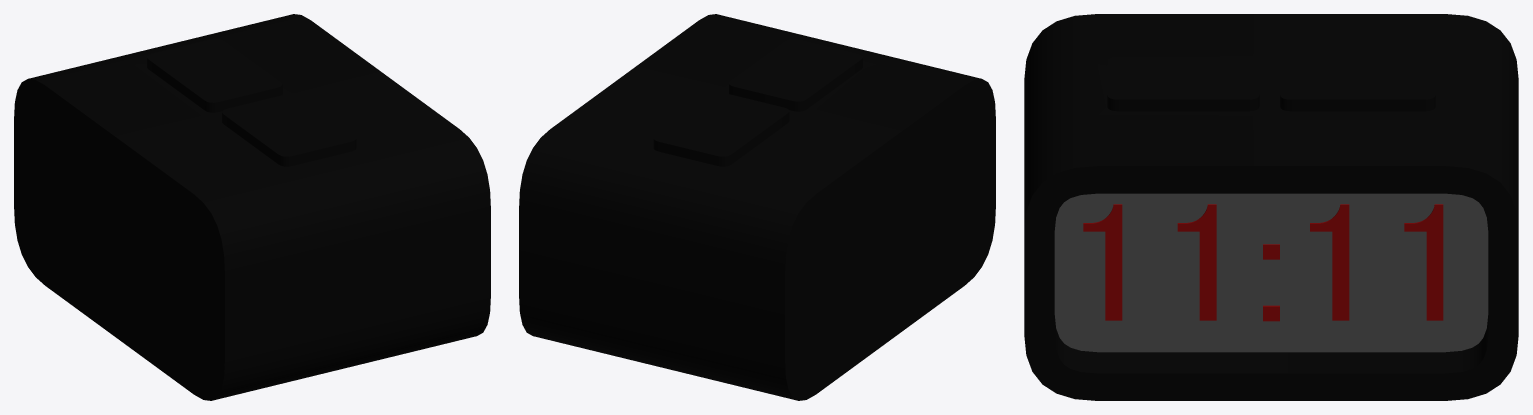
The model's file is Reveil1.fbx.
The picture shows the model from 3 angles, left to right: view 1: azimuth 30°, elevation 25°; view 2: azimuth 150°, elevation 25°; view 3: azimuth 270°, elevation 25°; orthographic projection. The views are drawn at different scales.
Parts seen in each view (by area): view 1: Reveil1; view 2: Reveil1; view 3: Reveil1.
Boxes of the visible parts, x1=… form: Reveil1: x1=14, y1=14, x2=490, y2=400; Reveil1: x1=519, y1=14, x2=995, y2=400; Reveil1: x1=1024, y1=14, x2=1518, y2=400.
Size of the model in its own units: 18.91 by 14.28 by 25.97.
